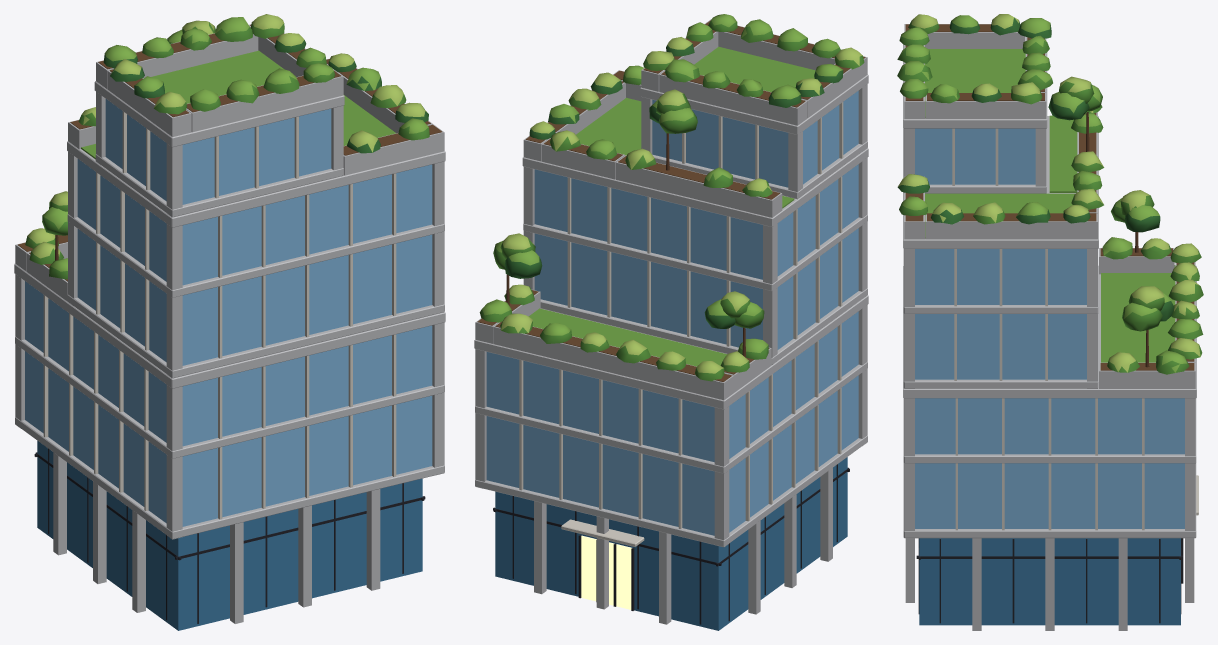
File: tower_b.glb
3 renders of one model, left to right at view 1: azimuth 30°, elevation 25°; view 2: azimuth 150°, elevation 25°; view 3: azimuth 270°, elevation 25°, orthographic. The views are drawn at different scales.
Parts seen in each view (by area): view 1: tower, garden; view 2: tower, garden; view 3: tower, garden.
Boxes of the visible parts, x1,y1,x2,y2 form: tower: [14, 24, 445, 630]; garden: [25, 14, 429, 279]; tower: [474, 19, 868, 630]; garden: [479, 14, 864, 381]; tower: [903, 24, 1198, 630]; garden: [897, 14, 1203, 374].
Bounding box in the file's own units: 11.87 × 21.36 × 11.91.
